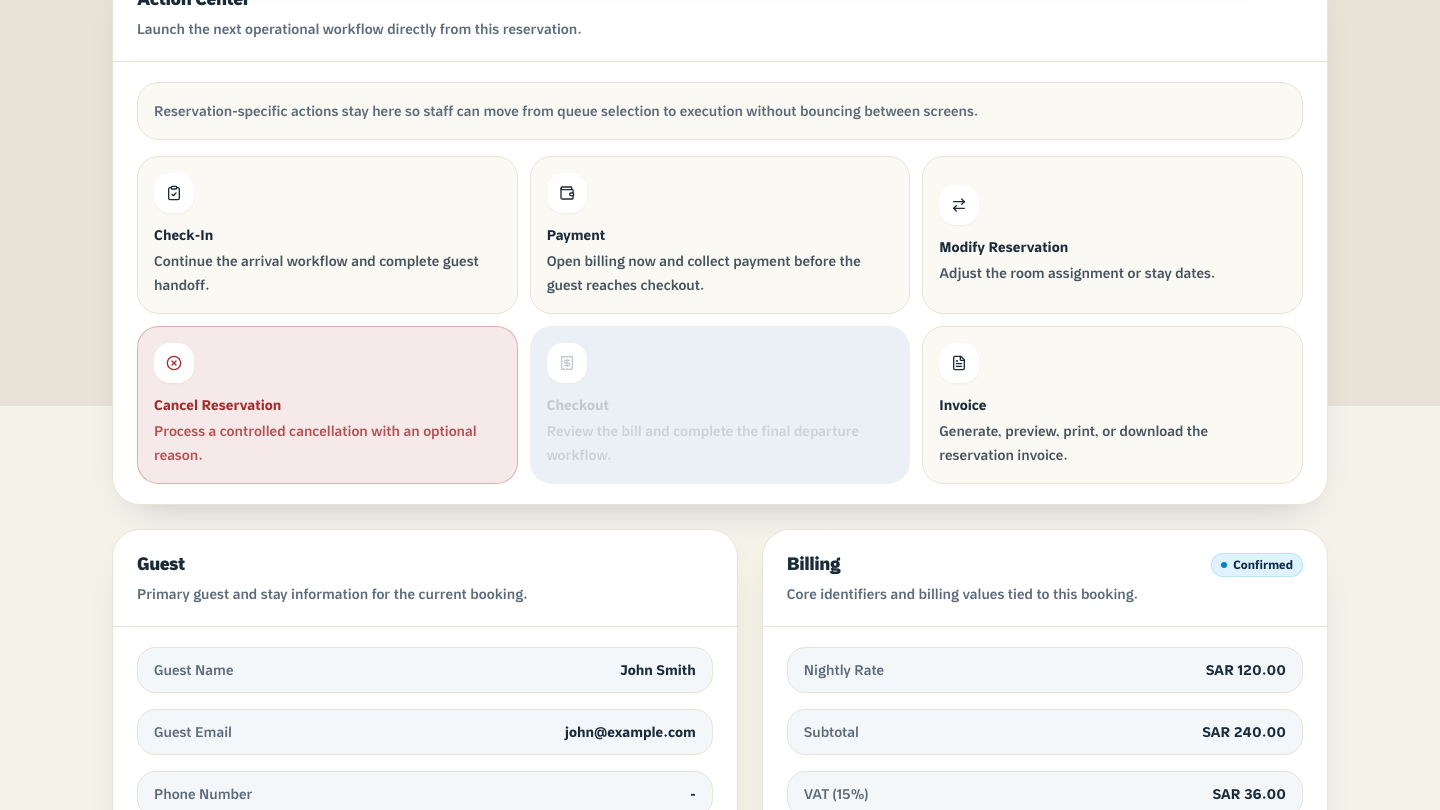
it: ReservationDetails › routes /reservations/cancel through explicit confirmation filters
This screenshot has width=1440, height=810.
(page scrolled)
What coordinates should you click on to do the following:
click the button "Cancel Reservation"
I would click on:
 (174, 363)
Its box is [137,326,518,484].
(page scrolled)
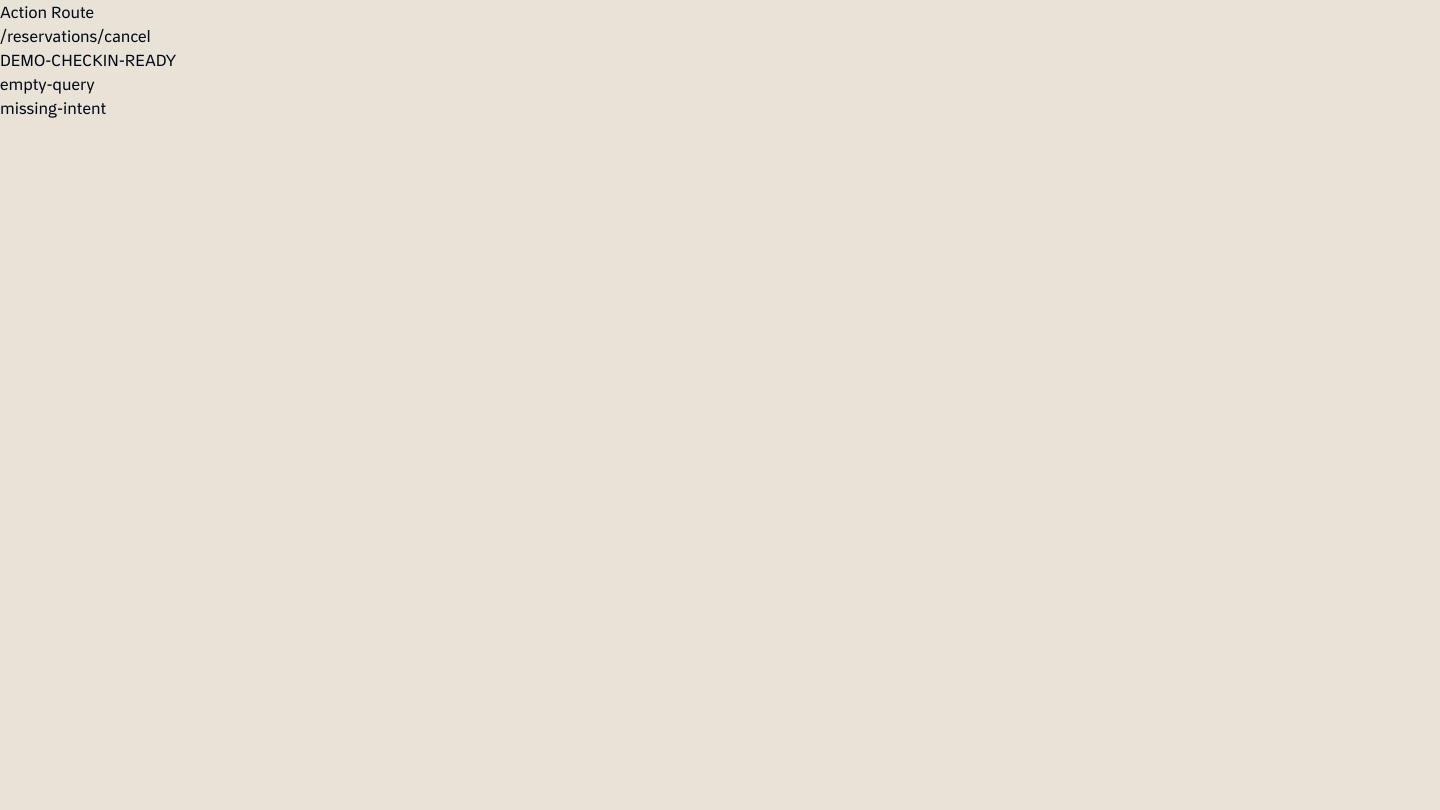
Expected: the text "Action Route" is shown, [0,2,94,22]
Expected: the text "/reservations/cancel" is shown, [0,26,151,46]
Expected: the text "empty-query" is shown, [0,74,94,94]
